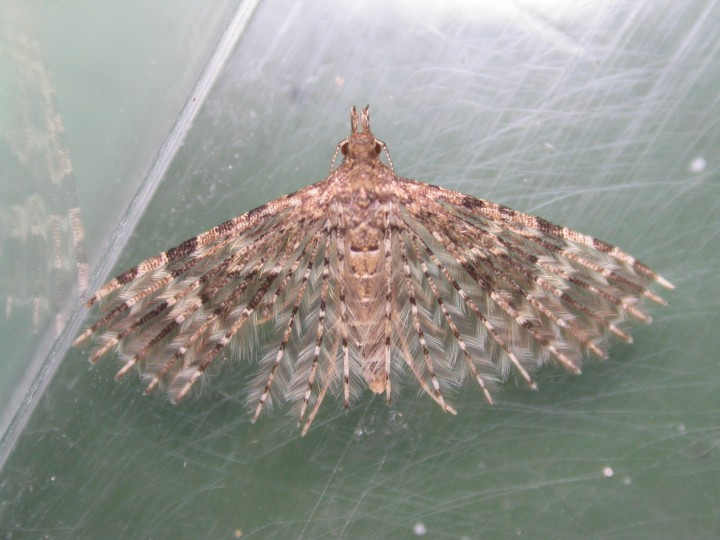Alucitidae: (65, 100, 681, 435)
moth: (63, 98, 679, 433)
